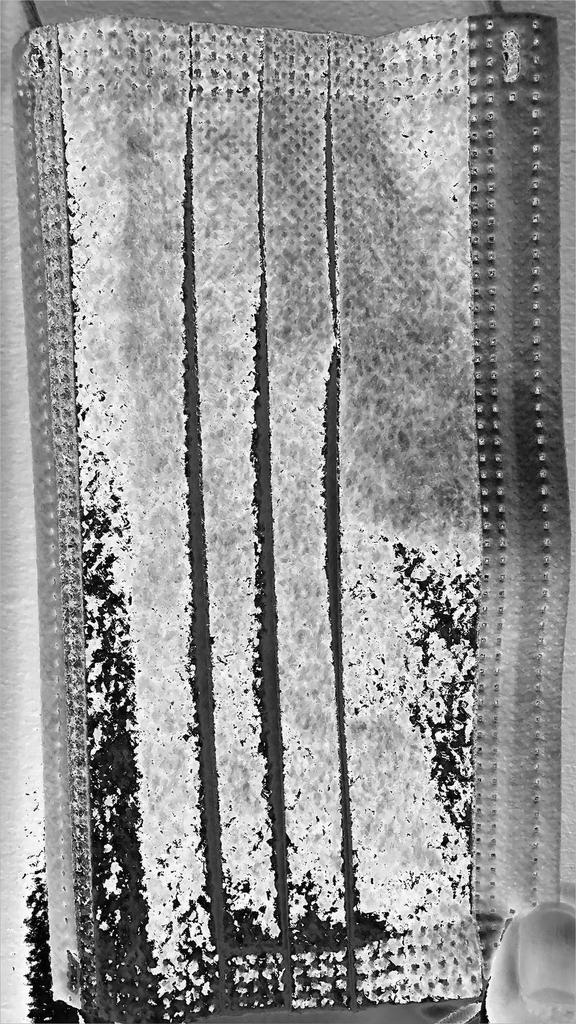High GSM: (14, 12, 483, 1018)
